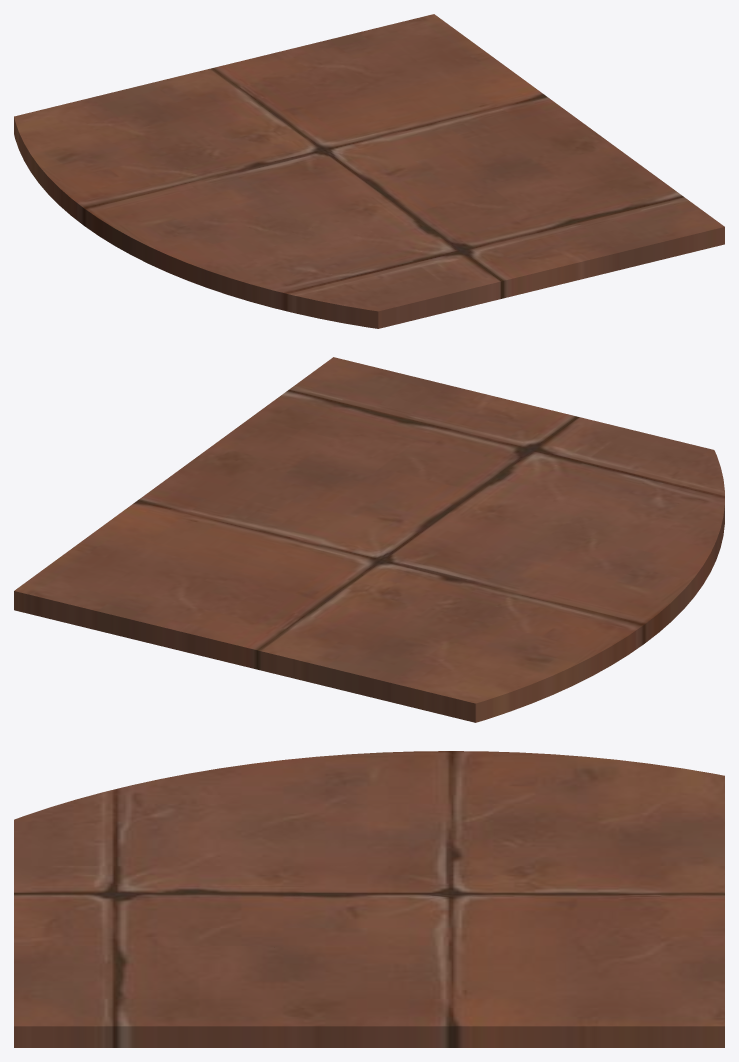
The model's file is Tile_Break3.FBX.
3 renders of one model, top to bottom at view 1: azimuth 30°, elevation 25°; view 2: azimuth 150°, elevation 25°; view 3: azimuth 270°, elevation 25°, orthographic. The views are drawn at different scales.
Visible parts, largest first — view 1: Piso18, Piso11, Piso25, Piso23, Piso17, Piso34, Piso06, Piso15, Piso33, Piso05, Piso28, Piso13 (+16 smaller); view 2: Piso25, Piso34, Piso18, Piso23, Piso17, Piso29, Piso15, Piso11, Piso33, Piso24, Piso05, Piso28 (+16 smaller); view 3: Piso17, Piso34, Piso18, Piso23, Piso25, Piso15, Piso11, Piso33, Piso05, Piso28, Piso13, Piso32 (+18 smaller).
Boxes of the visible parts, x1,y1,x2,y2 form: Piso18: (453, 213, 724, 296); Piso11: (312, 255, 508, 328); Piso25: (14, 113, 153, 255); Piso23: (101, 118, 225, 230); Piso17: (549, 120, 720, 223); Piso34: (375, 14, 578, 124); Piso06: (132, 230, 320, 318); Piso15: (451, 124, 575, 213); Piso33: (366, 68, 552, 140); Piso05: (155, 207, 312, 266); Piso28: (206, 67, 376, 114); Piso13: (342, 141, 490, 207); Piso25: (414, 584, 684, 722); Piso34: (14, 474, 197, 625); Piso18: (329, 357, 570, 450); Piso23: (411, 568, 654, 654); Piso17: (174, 360, 400, 482); Piso29: (78, 584, 297, 674); Piso15: (198, 435, 441, 502); Piso11: (547, 415, 723, 500); Piso33: (151, 482, 274, 583); Piso24: (279, 644, 462, 719); Piso05: (563, 501, 672, 584); Piso28: (169, 570, 344, 643); Piso17: (24, 955, 374, 1047); Piso34: (370, 967, 724, 1047); Piso18: (14, 887, 153, 1047); Piso23: (353, 767, 648, 835); Piso25: (349, 751, 724, 827); Piso15: (154, 915, 383, 1011); Piso11: (14, 800, 164, 897); Piso33: (375, 942, 622, 1012); Piso05: (165, 769, 368, 839); Piso28: (548, 879, 688, 967); Piso13: (229, 872, 377, 969); Piso32: (360, 915, 546, 970).
Bounding box in the file's own units: 138 × 5 × 150.
Materials: 1 (1 with a texture image).
